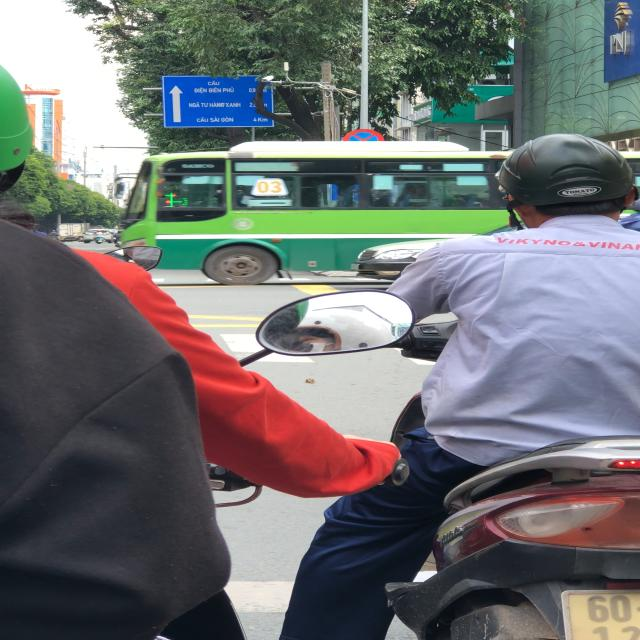Bien bao cam dung xe va do xe: (342, 126, 383, 145)
